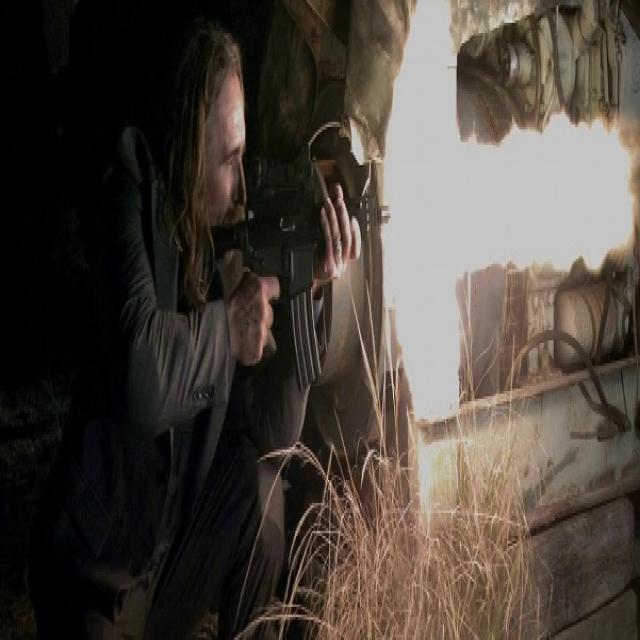rifle: (211, 148, 391, 365)
